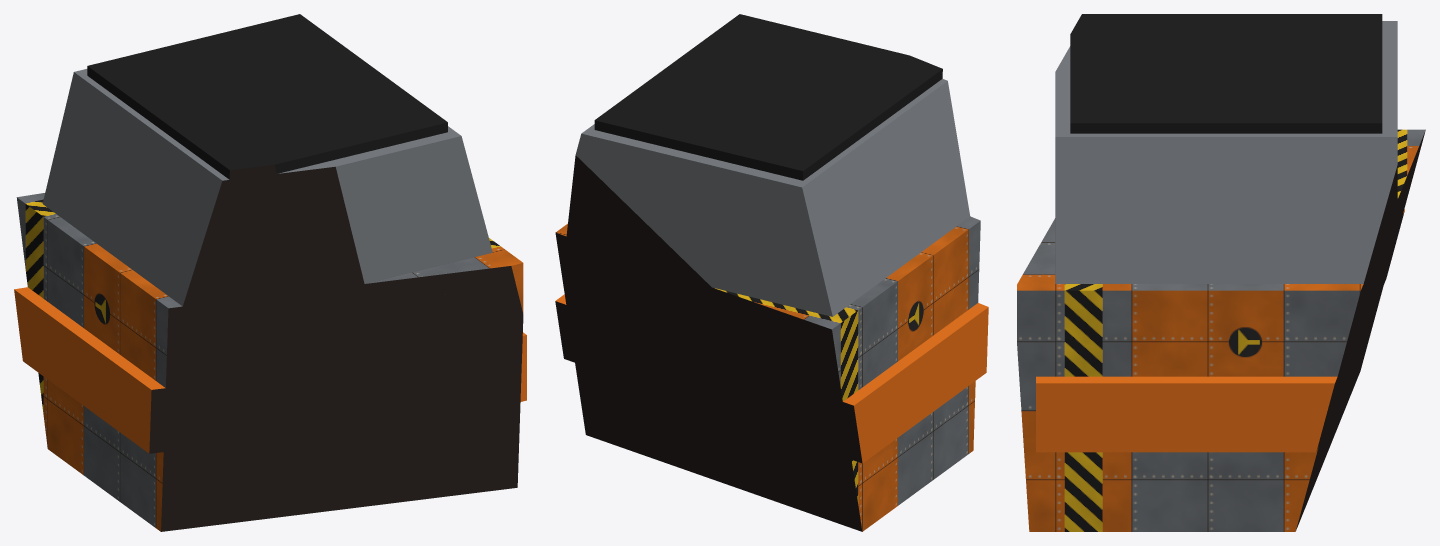
Rendered from prospector_hauler_debris3.obj.
3 views of the same model, side by side, from view 1: azimuth 30°, elevation 25°; view 2: azimuth 150°, elevation 25°; view 3: azimuth 270°, elevation 25° (orthographic). The views are drawn at different scales.
Parts seen in each view (by area): view 1: hull, hopper, ore, rail, pod; view 2: hull, hopper, ore, rail; view 3: hull, hopper, ore, rail.
Part boxes in pixels (box(x1,y1,x2,y2)): hull: box(16, 193, 523, 531); hopper: box(42, 69, 492, 306); ore: box(87, 14, 447, 179); rail: box(14, 287, 526, 453); pod: box(235, 276, 511, 484); hull: box(555, 216, 980, 531); hopper: box(566, 78, 969, 316); ore: box(594, 14, 942, 180); rail: box(555, 294, 988, 463); hull: box(1017, 129, 1425, 531); hopper: box(1055, 21, 1397, 283); ore: box(1070, 14, 1382, 133); rail: box(1036, 209, 1404, 452).
Size of the model in its own units: 10.8 by 11.1 by 10.74.
5 materials, 1 textured.
